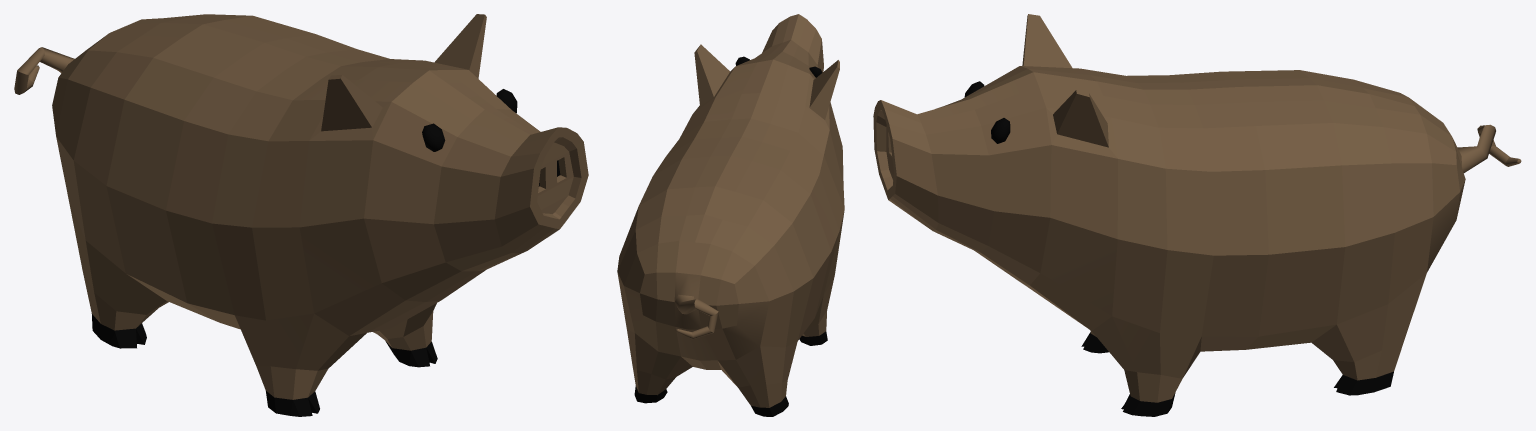
Rendered from pig.glb.
The picture shows the model from 3 angles, left to right: view 1: azimuth 30°, elevation 25°; view 2: azimuth 150°, elevation 25°; view 3: azimuth 270°, elevation 25°; orthographic projection. The views are drawn at different scales.
Visible parts, largest first — view 1: Pig; view 2: Pig; view 3: Pig.
Boxes of the visible parts, x1=… form: Pig: x1=14, y1=14, x2=588, y2=416; Pig: x1=617, y1=14, x2=844, y2=416; Pig: x1=873, y1=14, x2=1521, y2=416.
Bounding box in the file's own units: 0.1392 × 0.1724 × 0.3041.
